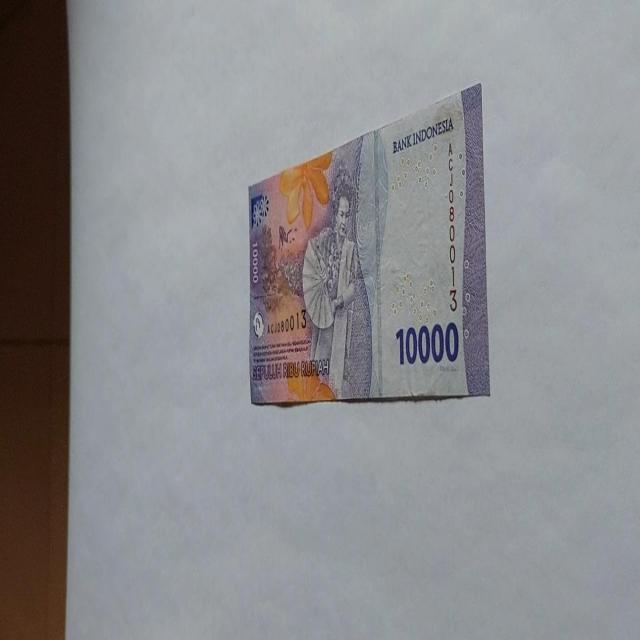Kertas: (248, 82, 490, 406), (394, 320, 460, 366)
